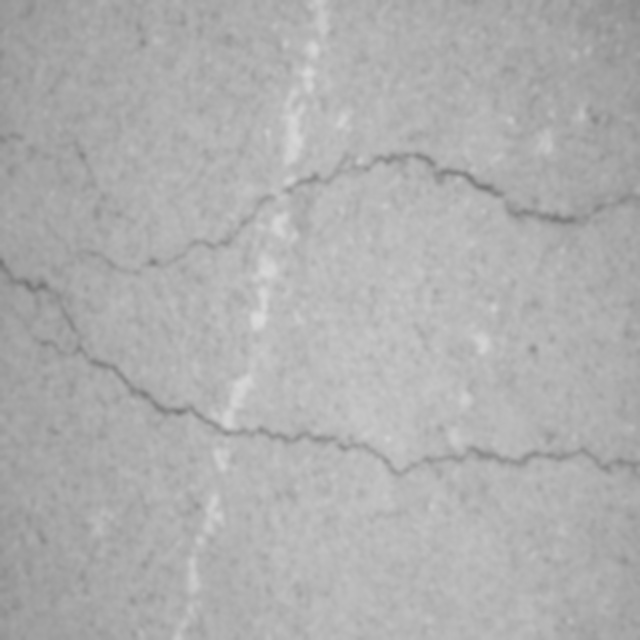SurfaceCrack: (1, 298, 640, 512)
